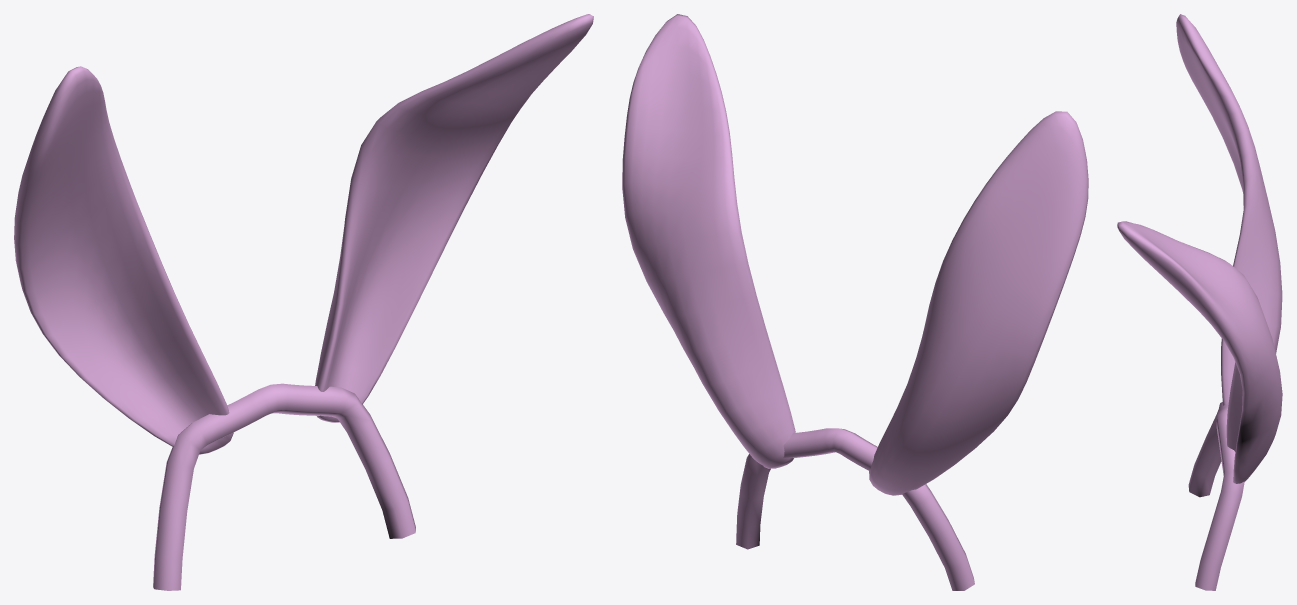
Rendered from SM_BunnyRider_00.fbx.
The picture shows the model from 3 angles, left to right: view 1: azimuth 30°, elevation 25°; view 2: azimuth 150°, elevation 25°; view 3: azimuth 270°, elevation 25°; orthographic projection. The views are drawn at different scales.
Parts seen in each view (by area): view 1: SM_BunnyRider_00; view 2: SM_BunnyRider_00; view 3: SM_BunnyRider_00.
Part boxes in pixels (x1=…): SM_BunnyRider_00: x1=14, y1=14, x2=593, y2=590; SM_BunnyRider_00: x1=622, y1=14, x2=1088, y2=590; SM_BunnyRider_00: x1=1117, y1=14, x2=1282, y2=590.
Bounding box in the file's own units: 64.47 × 65.99 × 22.31.
